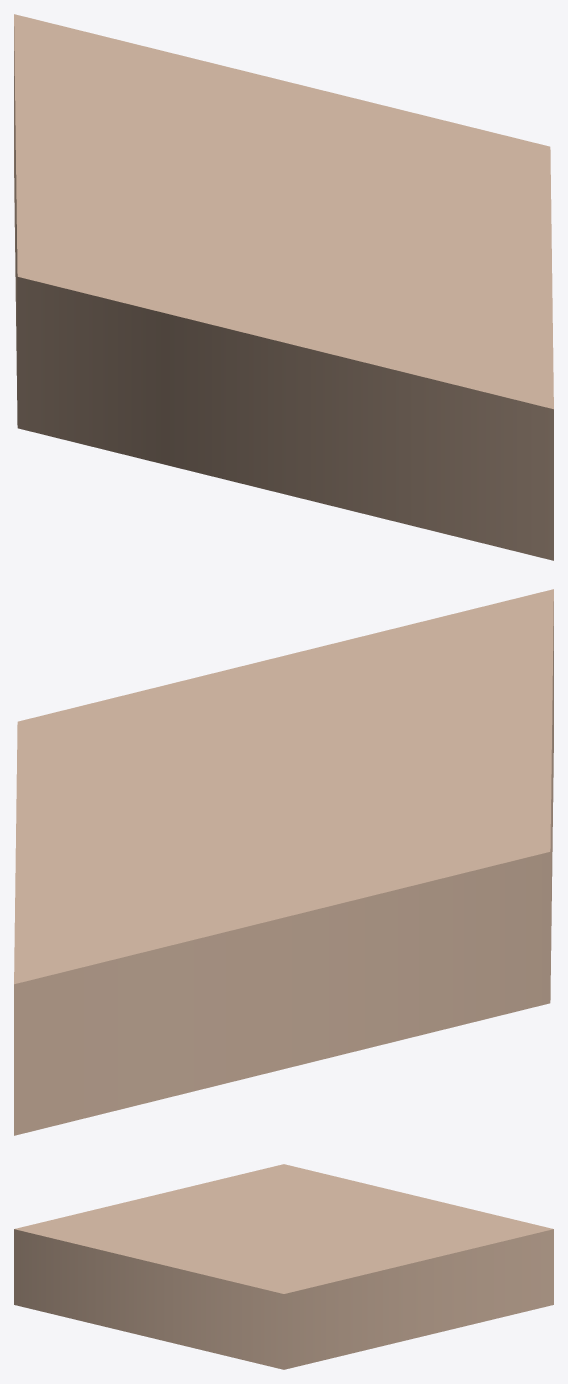
File: SM_Shape_Gem__02.fbx
3 renders of one model, top to bottom at view 1: azimuth 30°, elevation 25°; view 2: azimuth 150°, elevation 25°; view 3: azimuth 270°, elevation 25°, orthographic. The views are drawn at different scales.
Visible parts, largest first — view 1: SM_Shape_Gem__02; view 2: SM_Shape_Gem__02; view 3: SM_Shape_Gem__02.
Boxes of the visible parts, x1,y1,x2,y2 form: SM_Shape_Gem__02: (14, 14, 553, 560); SM_Shape_Gem__02: (14, 589, 553, 1135); SM_Shape_Gem__02: (14, 1164, 553, 1369).
Size of the model in its own units: 5.06 by 1.38 by 8.88.
